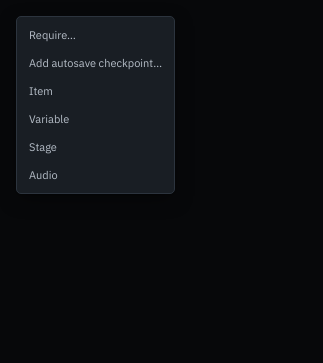
InkContextMenu › offers both when gating, since either can be a condition
Click the menu item "Require…": (96, 35) [21,21,170,49]
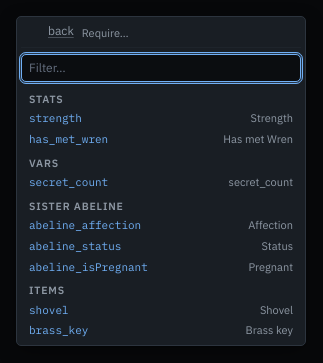
Expected: the heading "Stats" is shown, [29,92,64,106]
Expected: the heading "Vars" is shown, [29,156,59,170]
Expected: the heading "Items" is shown, [29,283,65,297]
